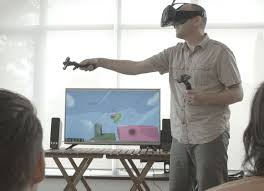oculus: (159, 4, 207, 29)
